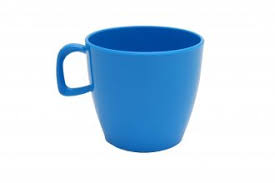cup: (48, 24, 221, 157)
